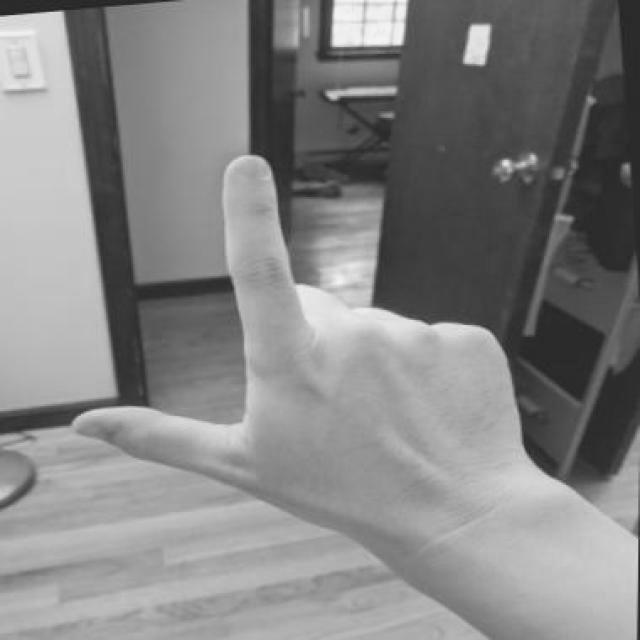L: (35, 125, 549, 571)
